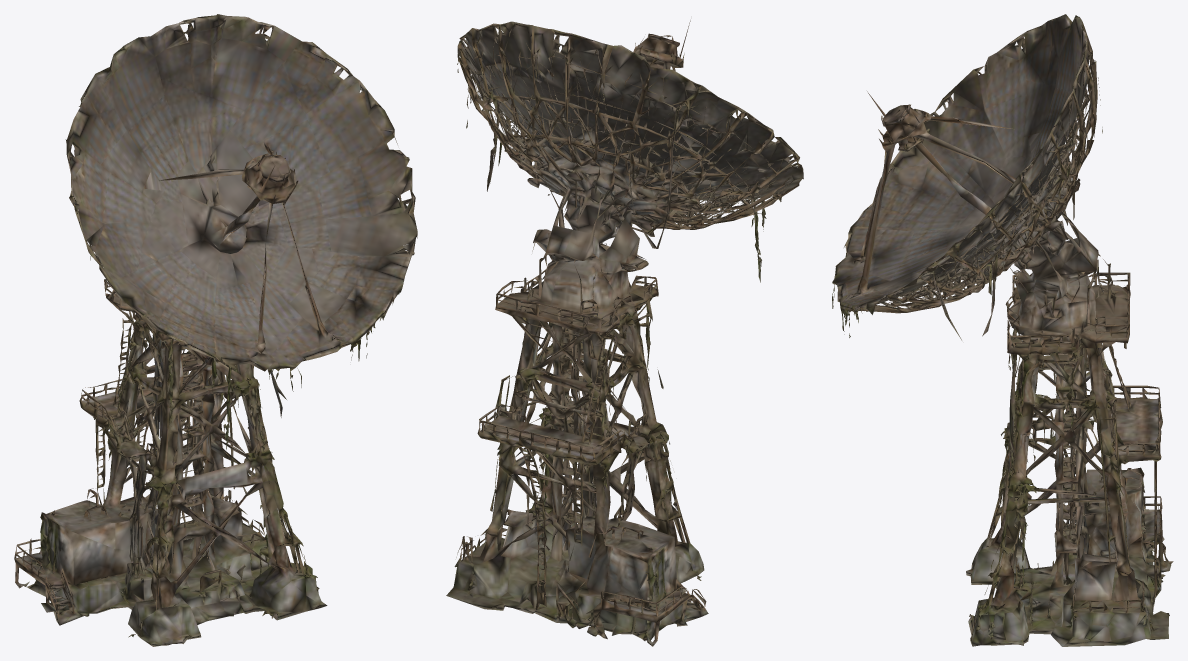
The model's file is radar_dish.glb.
The picture shows the model from 3 angles, left to right: view 1: azimuth 30°, elevation 25°; view 2: azimuth 150°, elevation 25°; view 3: azimuth 270°, elevation 25°; orthographic projection.
Parts seen in each view (by area): view 1: radar_dish; view 2: radar_dish; view 3: radar_dish.
Boxes of the visible parts, x1,y1,x2,y2 form: radar_dish: (14,14,417,646); radar_dish: (446,20,803,646); radar_dish: (832,14,1173,646).
Bounding box in the file's own units: 115 × 190 × 104.
Materials: 1 (1 with a texture image).
